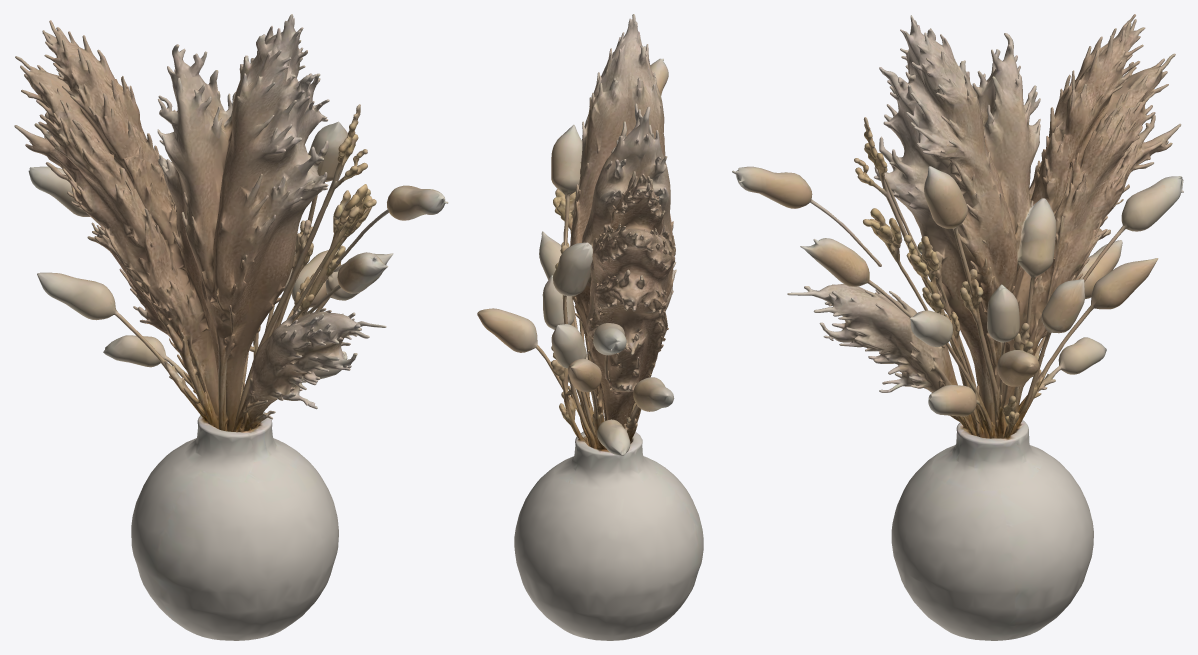
Rendered from vase.glb.
3 renders of one model, left to right at view 1: azimuth 30°, elevation 25°; view 2: azimuth 150°, elevation 25°; view 3: azimuth 270°, elevation 25°, orthographic. The views are drawn at different scales.
Visible parts, largest first — view 1: tripo_node_b9b28deb-b945-4d14-bf0c-000113bfa825; view 2: tripo_node_b9b28deb-b945-4d14-bf0c-000113bfa825; view 3: tripo_node_b9b28deb-b945-4d14-bf0c-000113bfa825.
Boxes of the visible parts, box(x1,y1,x2,y2) form: tripo_node_b9b28deb-b945-4d14-bf0c-000113bfa825: box(14, 14, 448, 640); tripo_node_b9b28deb-b945-4d14-bf0c-000113bfa825: box(477, 14, 703, 640); tripo_node_b9b28deb-b945-4d14-bf0c-000113bfa825: box(732, 14, 1183, 640).
Bounding box in the file's own units: 0.4247 × 0.9996 × 0.6715.
1 material, 1 textured.
